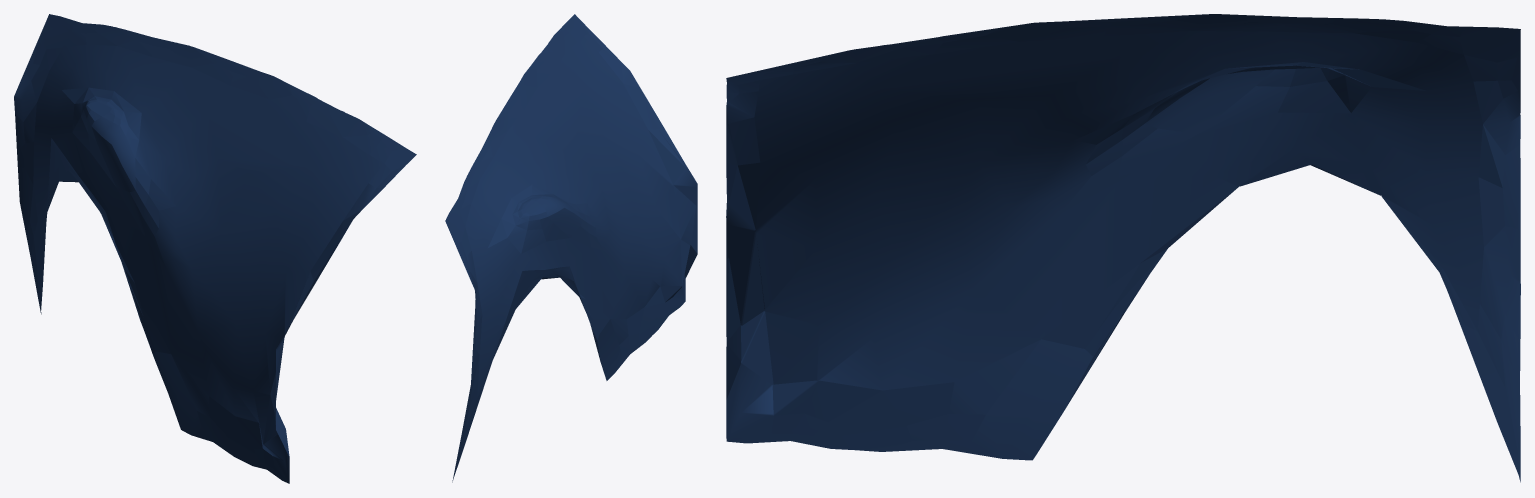
The model's file is GEO_Quarter_Rear_Right.glb.
3 views of the same model, side by side, from view 1: azimuth 30°, elevation 25°; view 2: azimuth 150°, elevation 25°; view 3: azimuth 270°, elevation 25° (orthographic). The views are drawn at different scales.
Parts seen in each view (by area): view 1: GEO_Quarter_Rear_Right; view 2: GEO_Quarter_Rear_Right; view 3: GEO_Quarter_Rear_Right.
Boxes of the visible parts, <box> form: GEO_Quarter_Rear_Right: <box>14,14,416,483</box>; GEO_Quarter_Rear_Right: <box>445,14,697,482</box>; GEO_Quarter_Rear_Right: <box>726,14,1520,482</box>.
Bounding box in the file's own units: 0.3895 × 0.8191 × 1.14.
